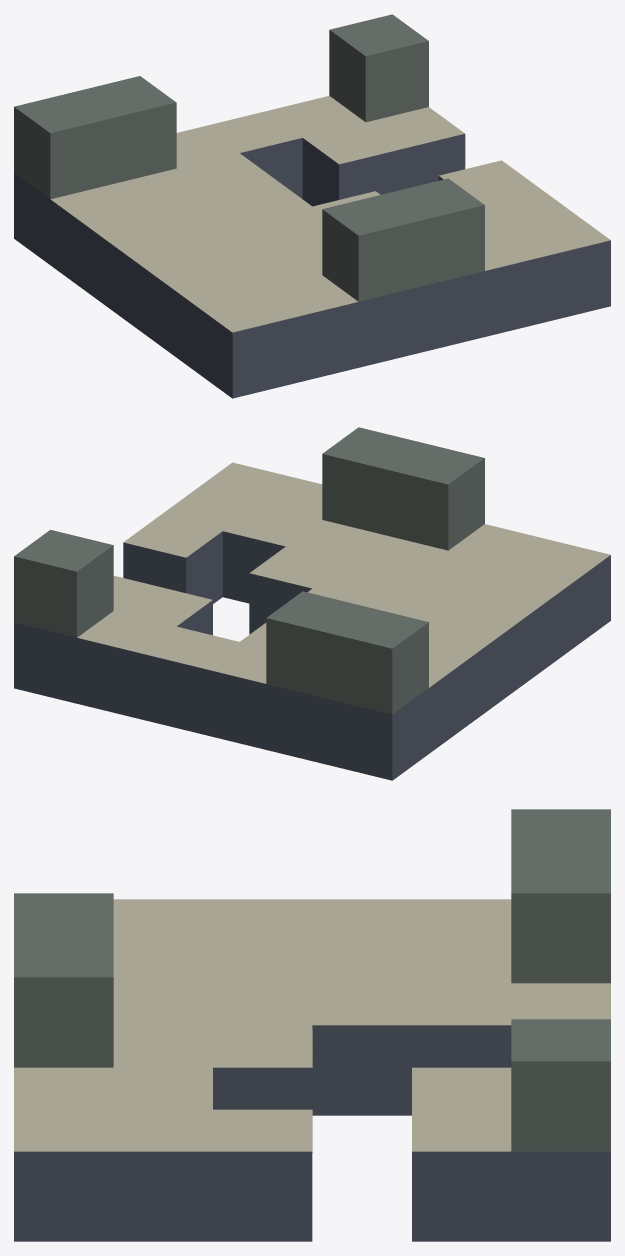
The picture shows the model from 3 angles, top to bottom: view 1: azimuth 30°, elevation 25°; view 2: azimuth 150°, elevation 25°; view 3: azimuth 270°, elevation 25°; orthographic projection. The views are drawn at different scales.
Parts seen in each view (by area): view 1: 2.3; view 2: 2.3; view 3: 2.3.
Boxes of the visible parts, box(x1,y1,x2,y2) form: 2.3: box(14, 14, 610, 398); 2.3: box(14, 427, 610, 780); 2.3: box(14, 809, 610, 1241).
Bounding box in the file's own units: 600 × 200 × 600.
